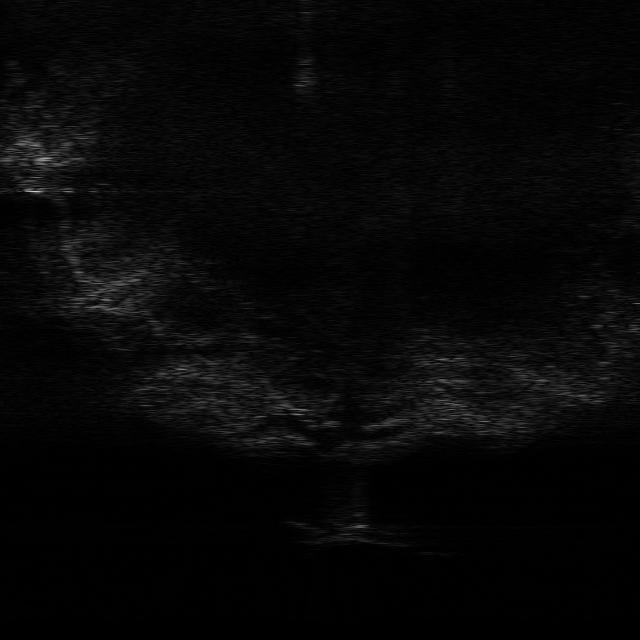plane: (282, 511, 412, 549)
